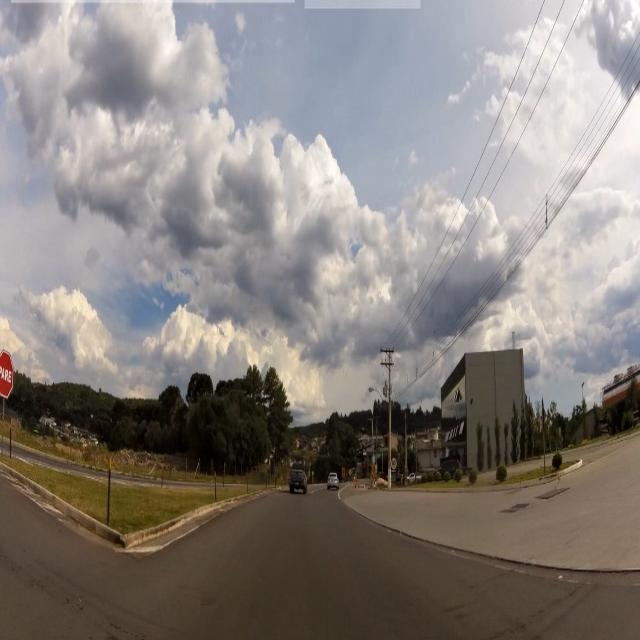R-1: (0, 334, 17, 412)
